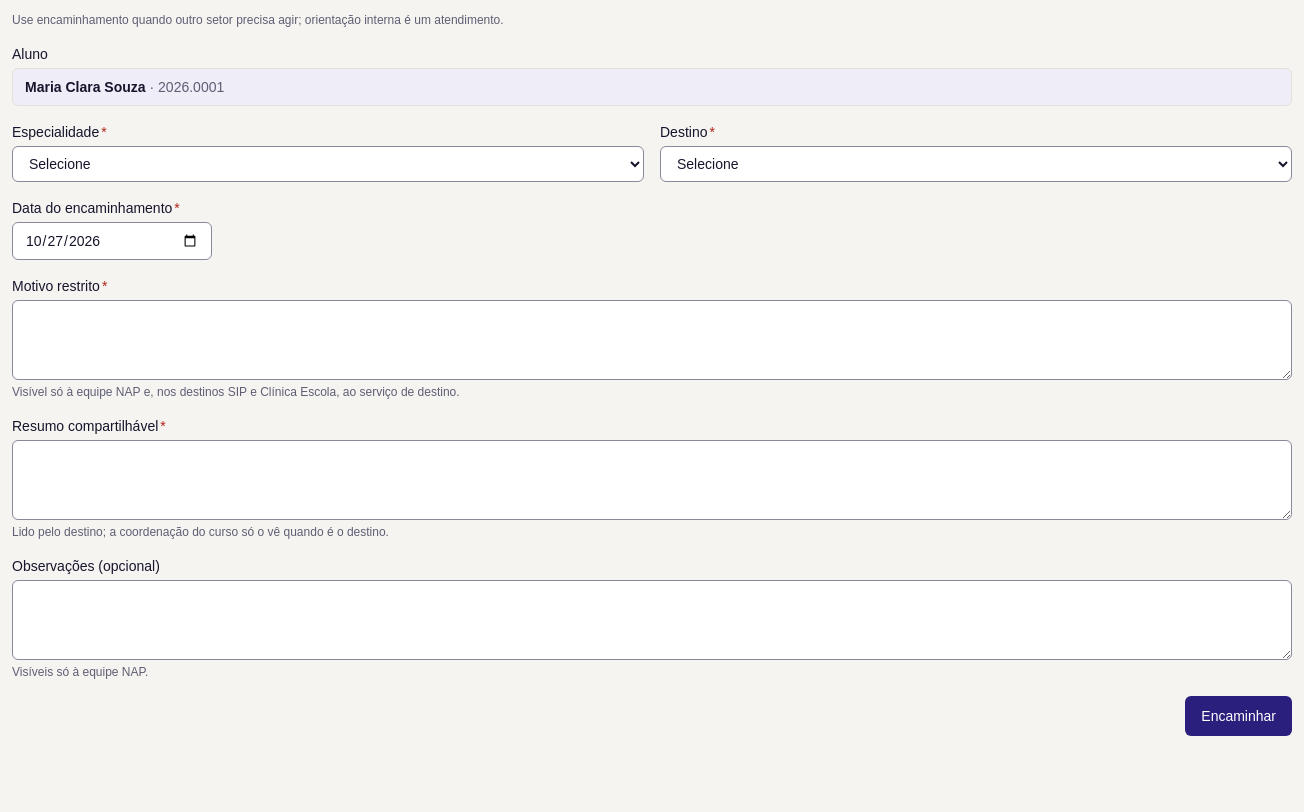
EncaminhamentoForm › Demais_especialidades_oferecem_sip_clinica_e_externo
Select "Psicologia" in the dropdown labelled "Especialidade*": (328, 164) [12,146,644,182]
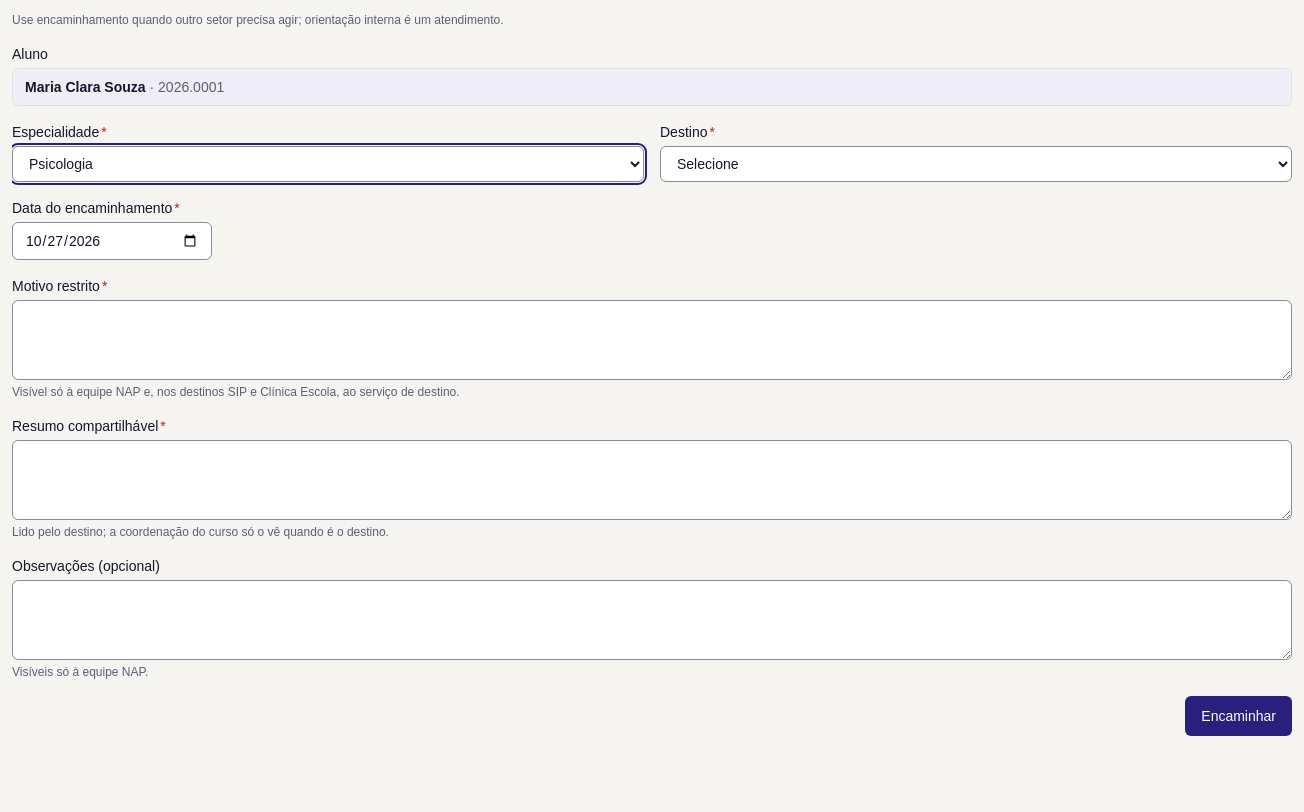
Select "SIP" in the dropdown labelled "Destino*": (976, 164) [660,146,1292,182]
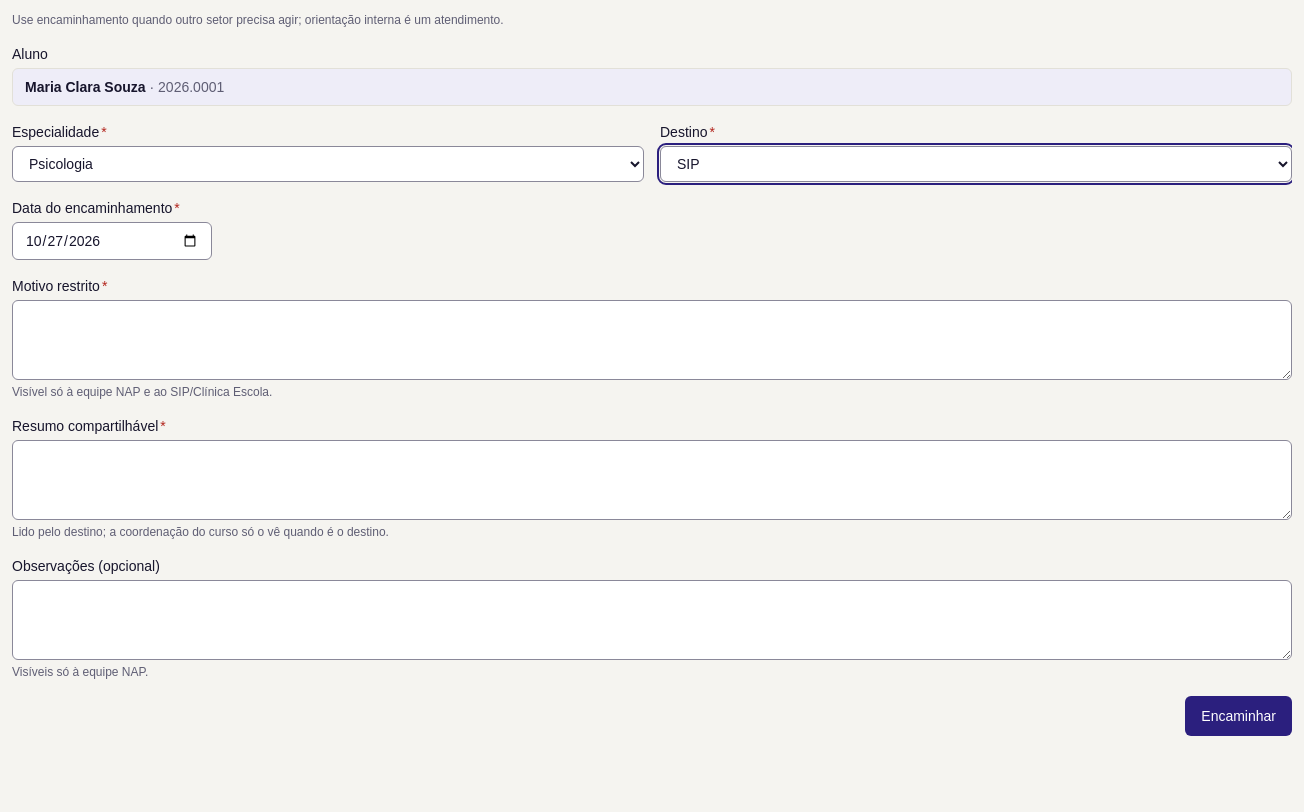
Expected: the text "Visível só à equipe NAP e ao SIP/Clínica Escola." is shown, [12,385,272,399]
